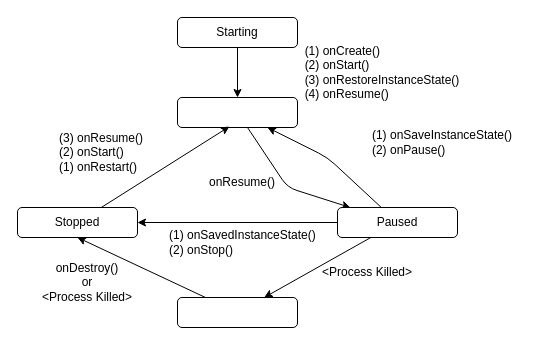
This 545x345 diagram has some shape labels left out. Each missing label, with the box of its shape:
Destroyed: (176, 296, 298, 328)
Running: (176, 96, 298, 128)
